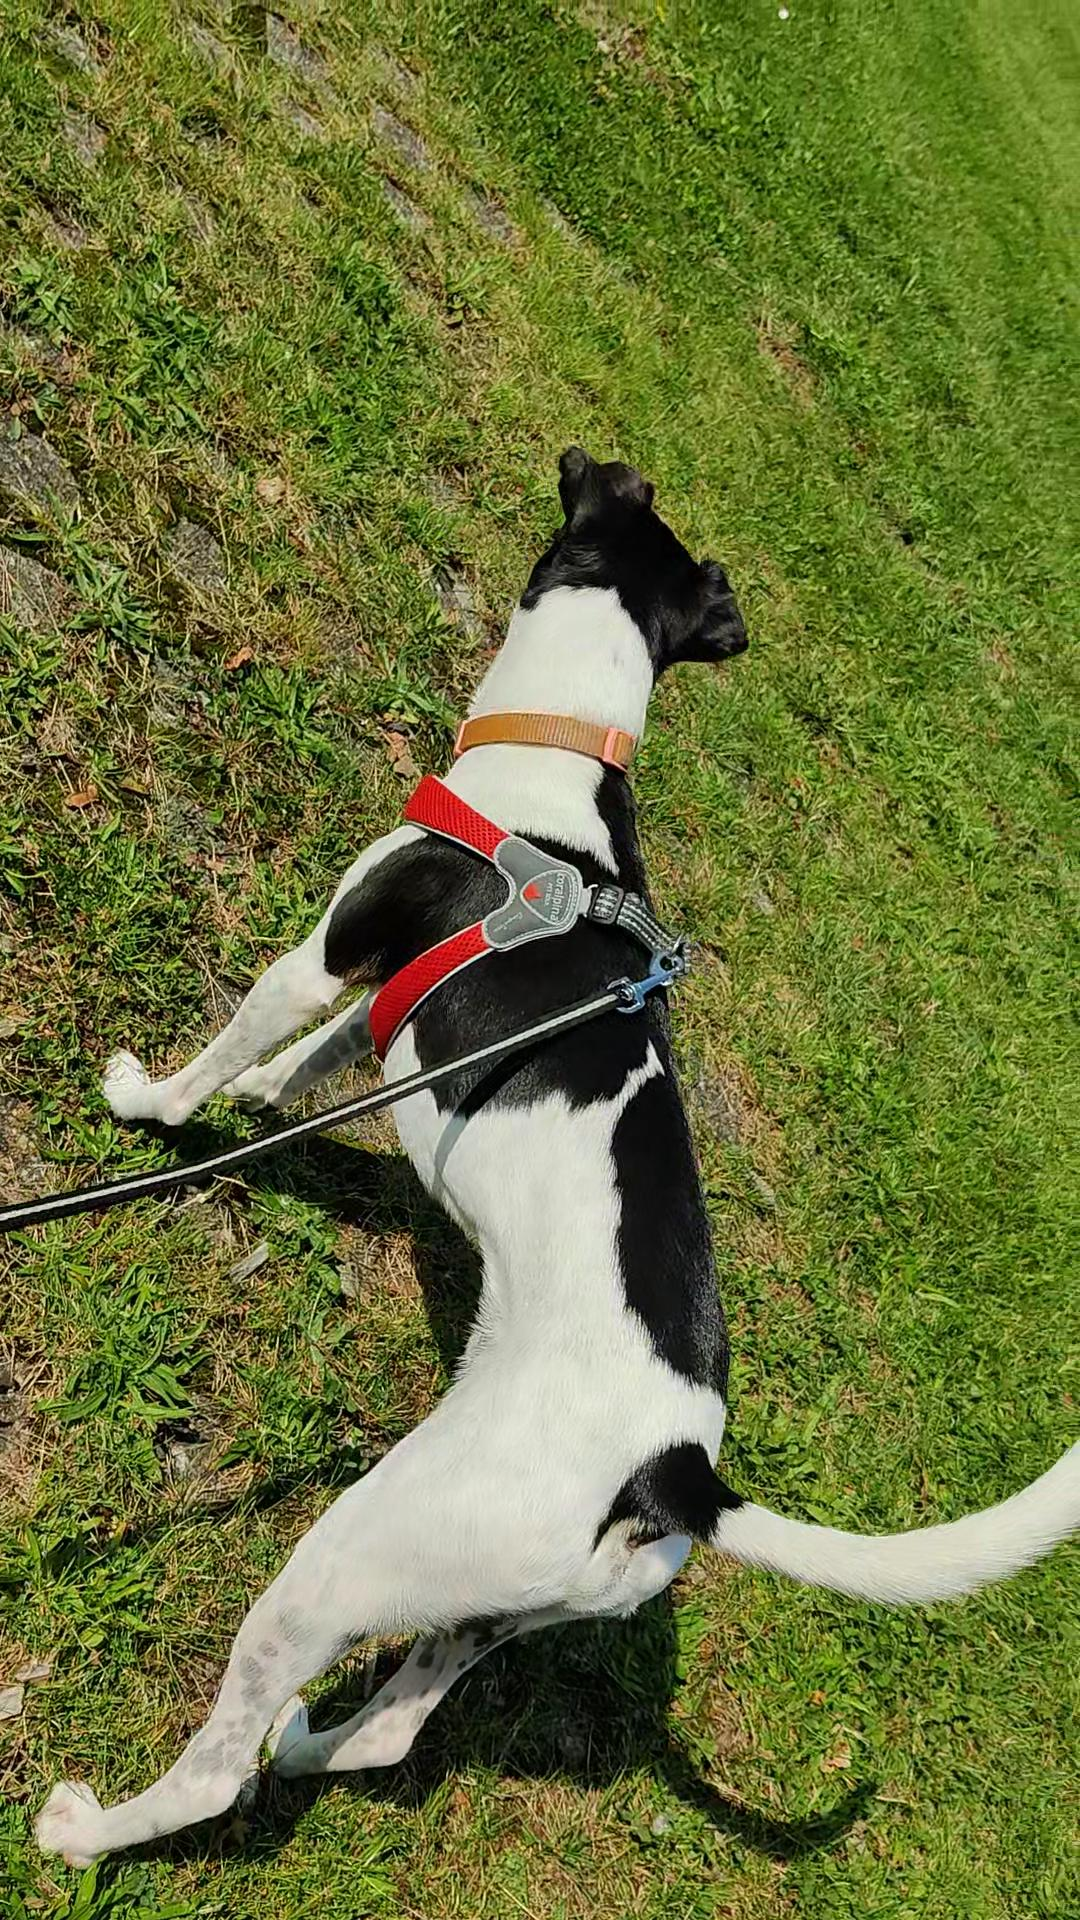Dog: (22, 430, 1079, 1878)
